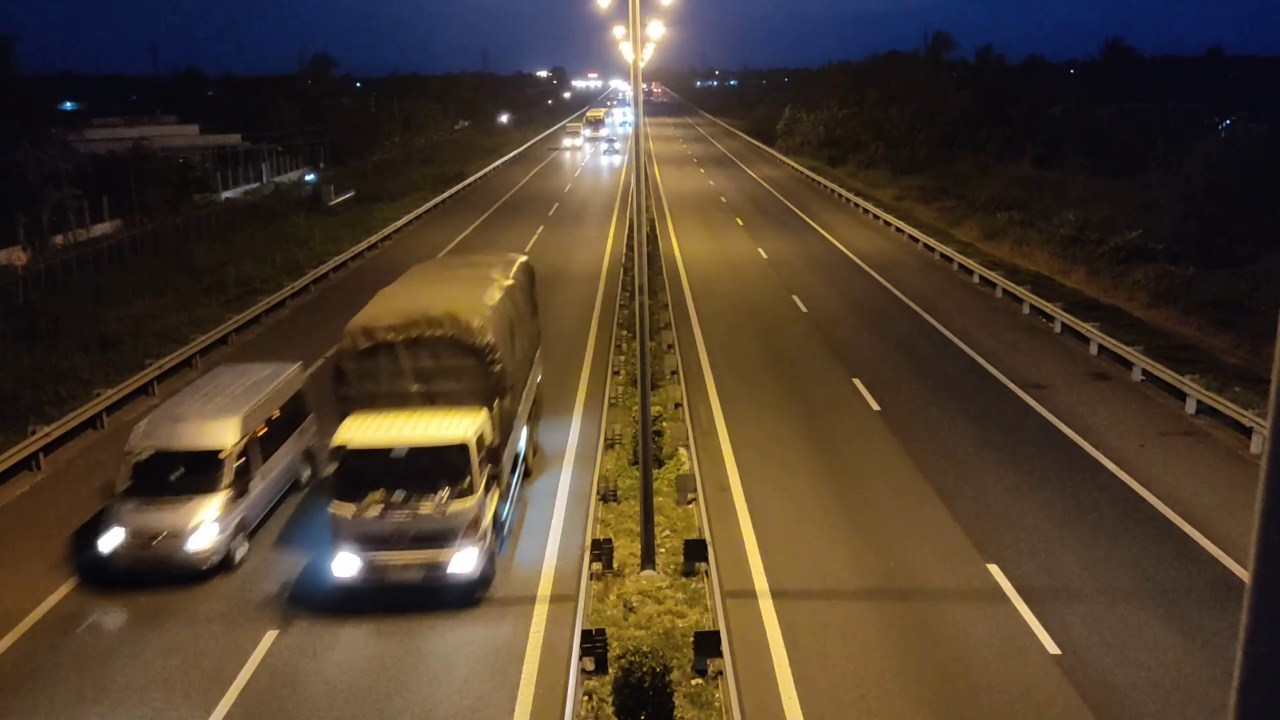car: (90, 358, 314, 580)
truck: (291, 251, 545, 612)
